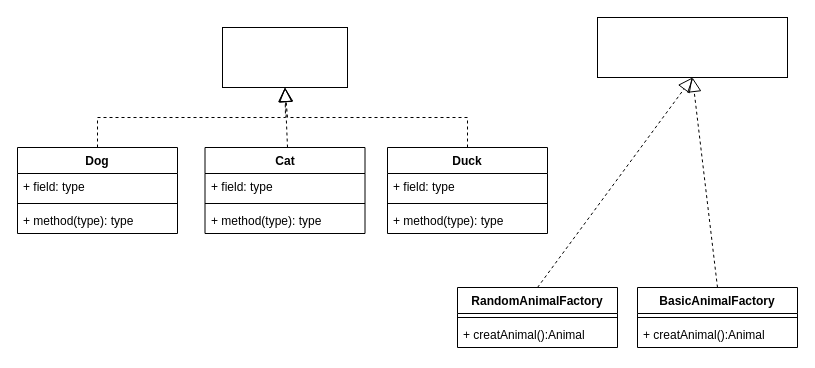
This 815x368 diagram has some shape labels left out. Here are the shapes that lost their labels. From the top down, the centre of each, then its label:
At [285,57]: "«interface» Animal".
At [692,47]: "<<Interface>> AnimalFactory + creatAnimal():Animal".
